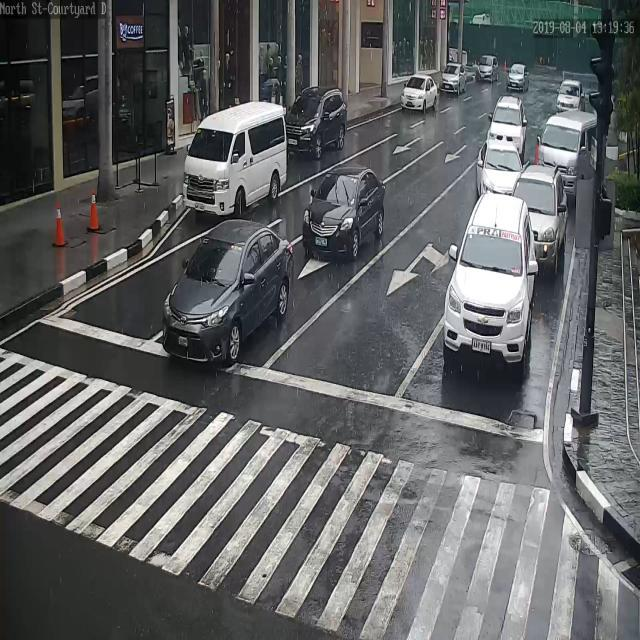car: (161, 220, 293, 365), (445, 191, 538, 372), (303, 165, 386, 261), (508, 164, 568, 276), (285, 85, 348, 154), (476, 138, 523, 200), (486, 95, 527, 156), (399, 73, 439, 114), (439, 62, 469, 96), (556, 78, 584, 112), (475, 53, 502, 81), (507, 64, 528, 91)
van: (183, 102, 288, 216), (539, 110, 599, 195)
